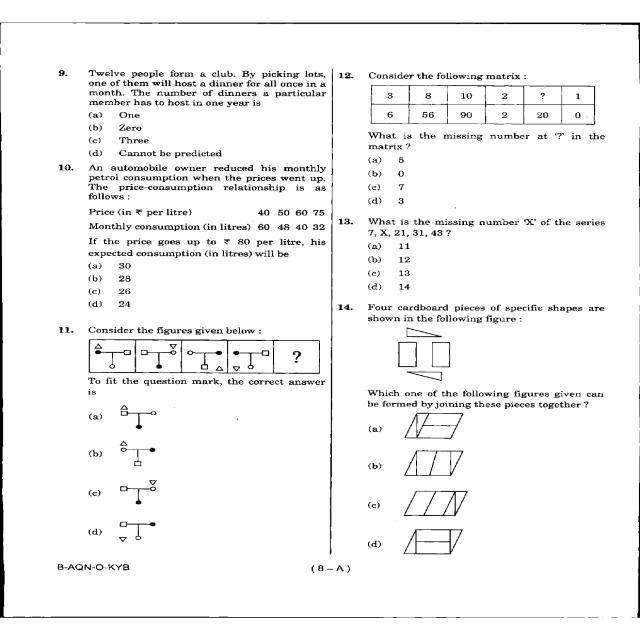Answer_Block: (9, 400, 329, 554), (332, 411, 638, 556), (9, 258, 329, 314), (332, 241, 638, 299), (9, 106, 329, 159), (332, 158, 638, 208)
Question_Answer_Block: (332, 303, 638, 556), (9, 320, 329, 554), (332, 29, 638, 208), (9, 162, 329, 314), (9, 30, 329, 159), (332, 215, 638, 299)
Question_Block: (332, 30, 638, 151), (332, 302, 638, 408), (9, 162, 329, 259), (9, 30, 329, 110), (9, 320, 329, 400), (332, 215, 638, 239)
Question_Paper_Area: (9, 30, 639, 615)
